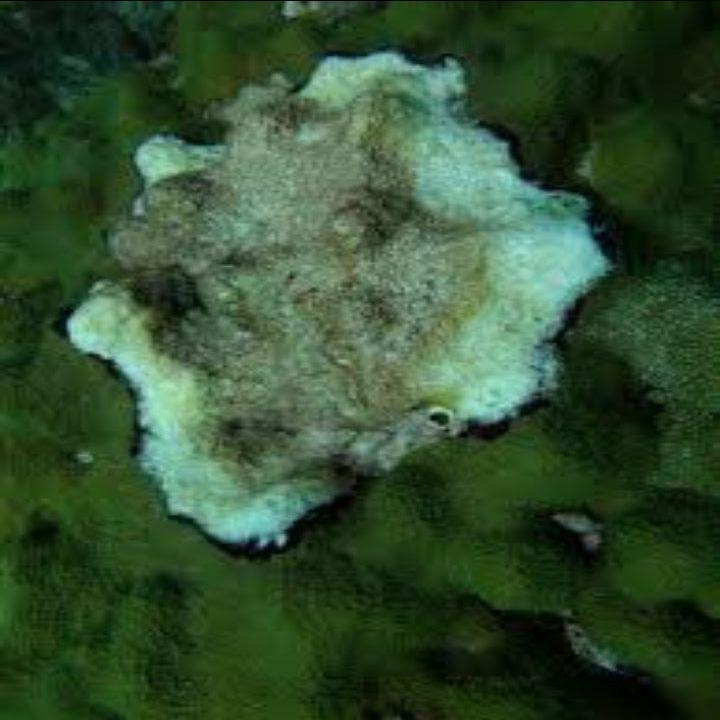White Pox Disease: (40, 39, 612, 578)
